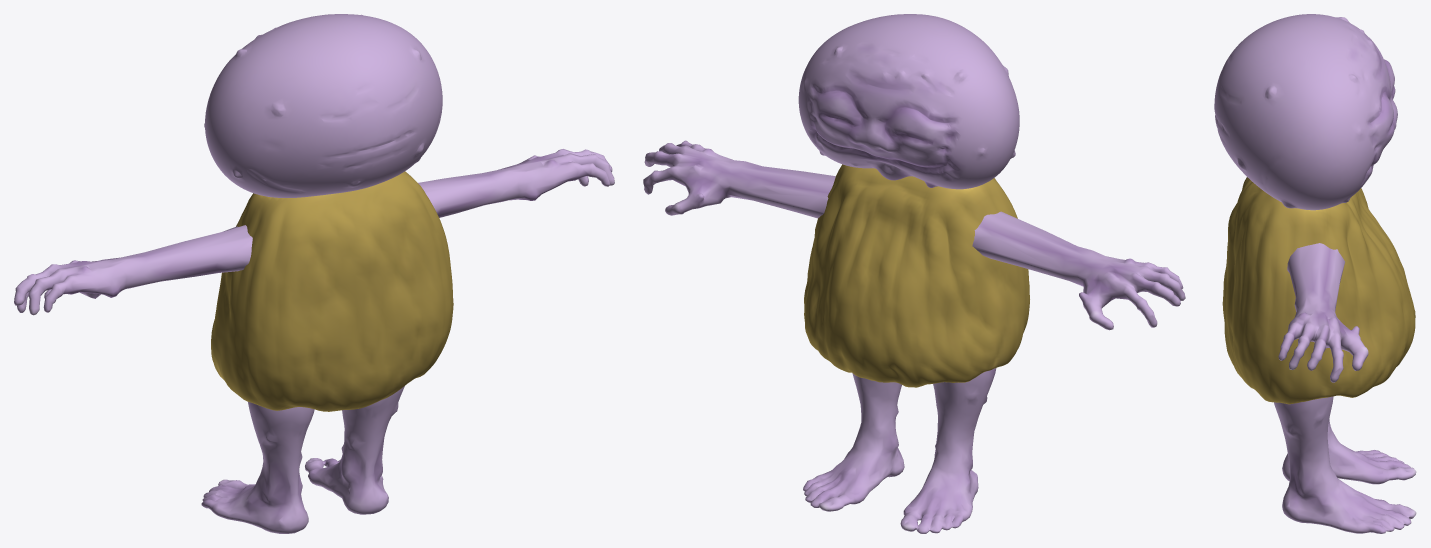
File: AburaSumashi.fbx
3 renders of one model, left to right at view 1: azimuth 30°, elevation 25°; view 2: azimuth 150°, elevation 25°; view 3: azimuth 270°, elevation 25°, orthographic. The views are drawn at different scales.
Parts seen in each view (by area): view 1: Cuerpo, Cabeza, BrazoDer, feet1, BrazoIzq, feet1.001; view 2: Cuerpo, Cabeza, BrazoDer, BrazoIzq, feet1, feet1.001; view 3: Cabeza, Cuerpo, feet1.001, BrazoIzq, feet1.
Part boxes in pixels (bbox=[...]): Cuerpo: bbox=[211, 171, 453, 411]; Cabeza: bbox=[204, 14, 442, 197]; BrazoDer: bbox=[14, 225, 252, 315]; feet1: bbox=[201, 402, 314, 533]; BrazoIzq: bbox=[418, 149, 614, 217]; feet1.001: bbox=[305, 386, 404, 514]; Cuerpo: bbox=[804, 164, 1029, 387]; Cabeza: bbox=[798, 14, 1019, 189]; BrazoDer: bbox=[972, 211, 1185, 330]; BrazoIzq: bbox=[643, 140, 835, 218]; feet1: bbox=[900, 368, 996, 533]; feet1.001: bbox=[803, 373, 904, 511]; Cabeza: bbox=[1214, 14, 1397, 210]; Cuerpo: bbox=[1222, 177, 1415, 404]; feet1.001: bbox=[1274, 396, 1416, 533]; BrazoIzq: bbox=[1278, 243, 1368, 382]; feet1: bbox=[1282, 419, 1416, 484].
Bounding box in the file's own units: 307 × 247 × 95.91.
